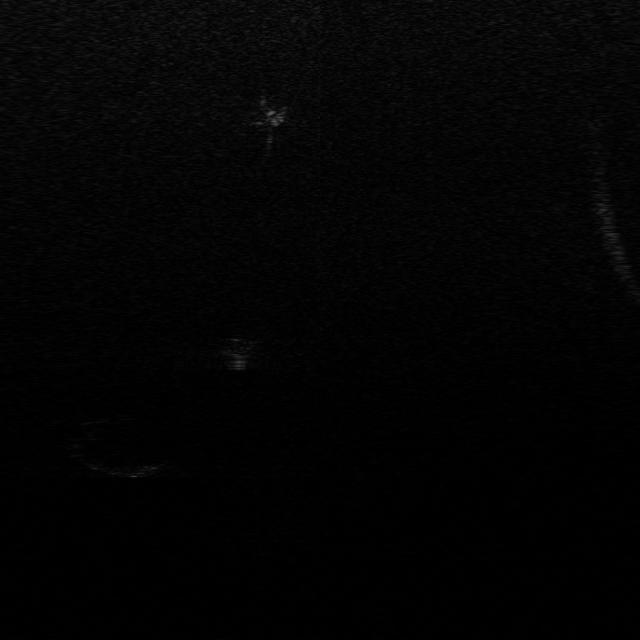cube: (216, 333, 258, 372)
square cage: (244, 93, 290, 125)
tyre: (63, 414, 173, 480)
